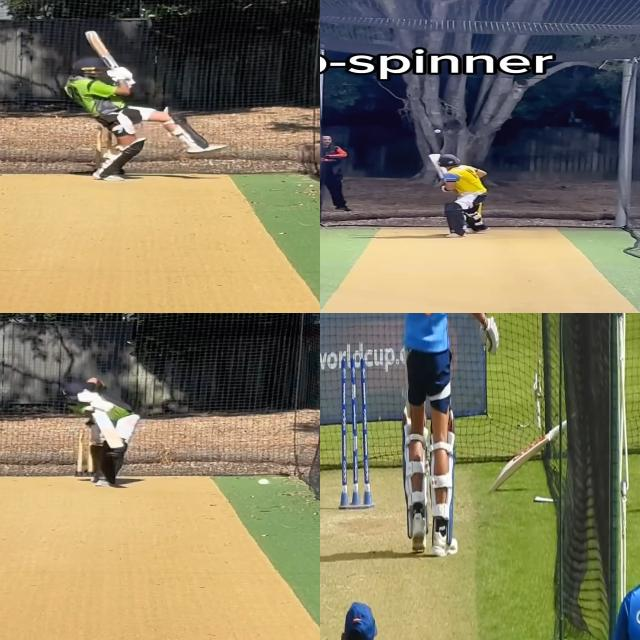Cricket ball: (256, 477, 270, 486), (434, 130, 441, 134)
Stumps: (339, 354, 373, 510)
